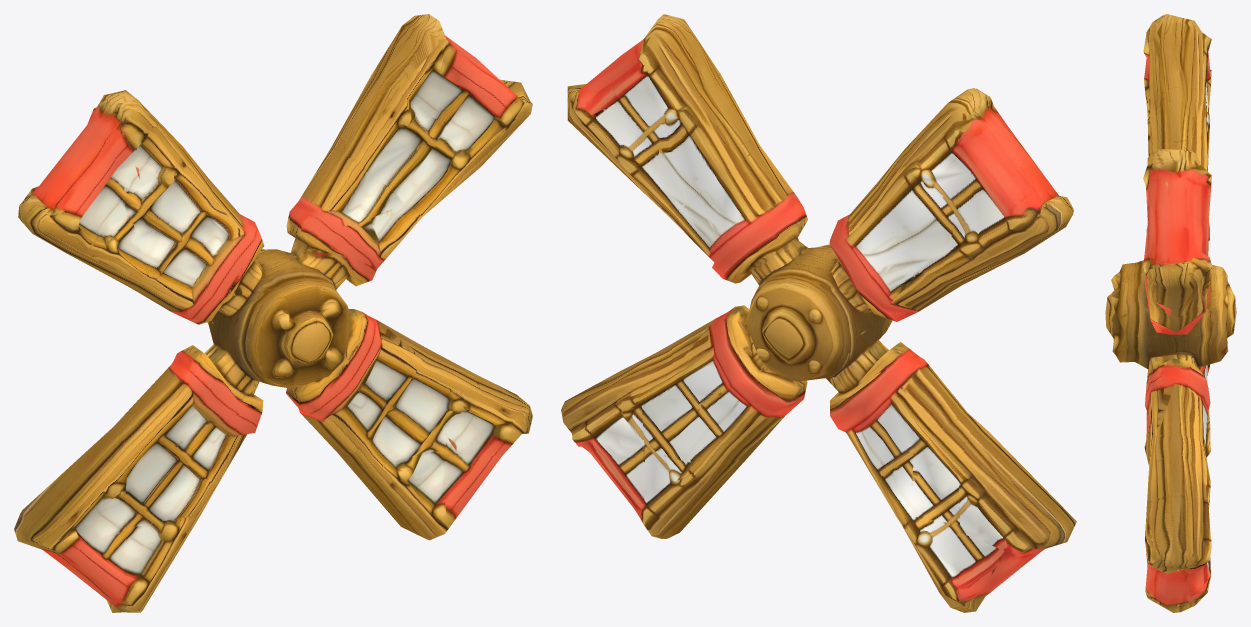
Rendered from windmill2_blades.glb.
The picture shows the model from 3 angles, left to right: view 1: azimuth 30°, elevation 25°; view 2: azimuth 150°, elevation 25°; view 3: azimuth 270°, elevation 25°; orthographic projection. The views are drawn at different scales.
Size of the model in its own units: 1.89 by 1.86 by 0.4738.
Materials: 1 (1 with a texture image).
